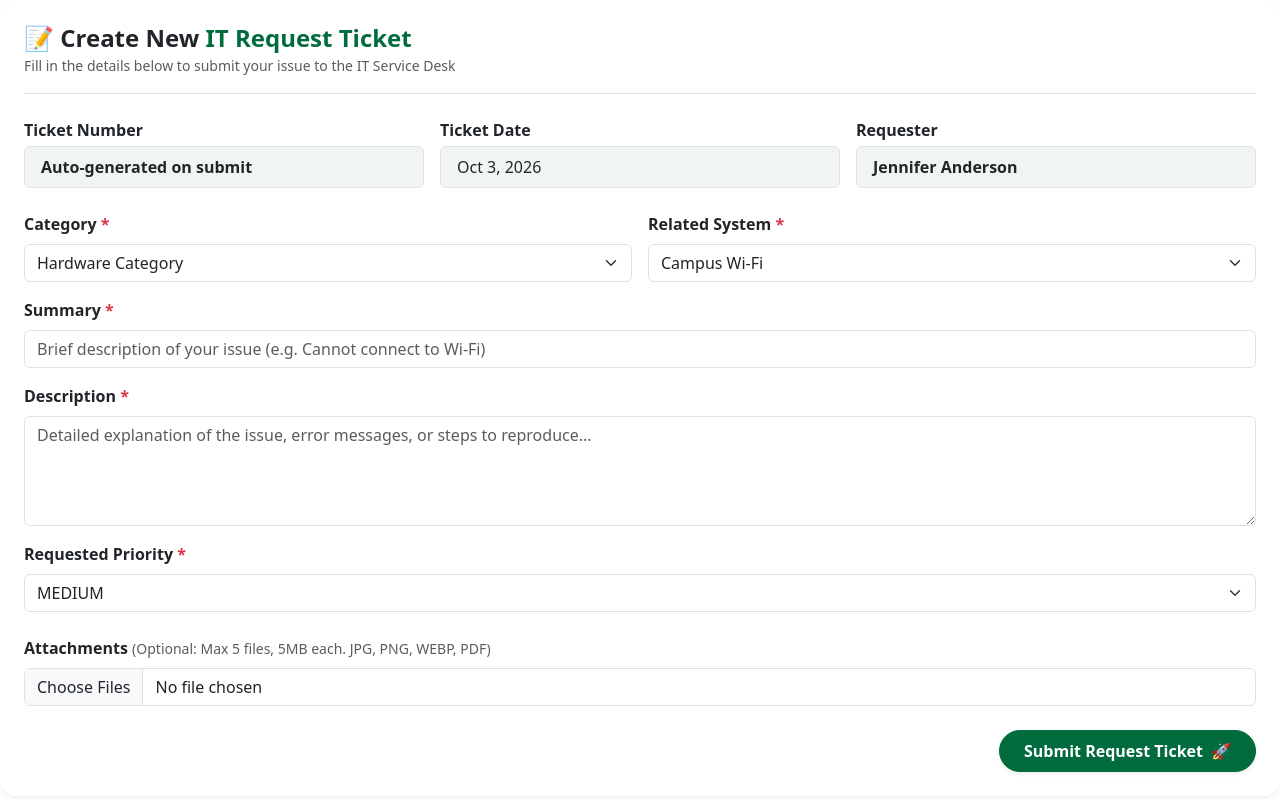
UI-02 & UI-03: Create Ticket Form (AC-01) › UI-20: API failure on create shows red error alert with message (AC-01)
The width and height of the screenshot is (1280, 800).
Type "Test Summary" into the field labelled "Summary *".
click(640, 349); type("Test Summary")  # box [24,330,1256,368]
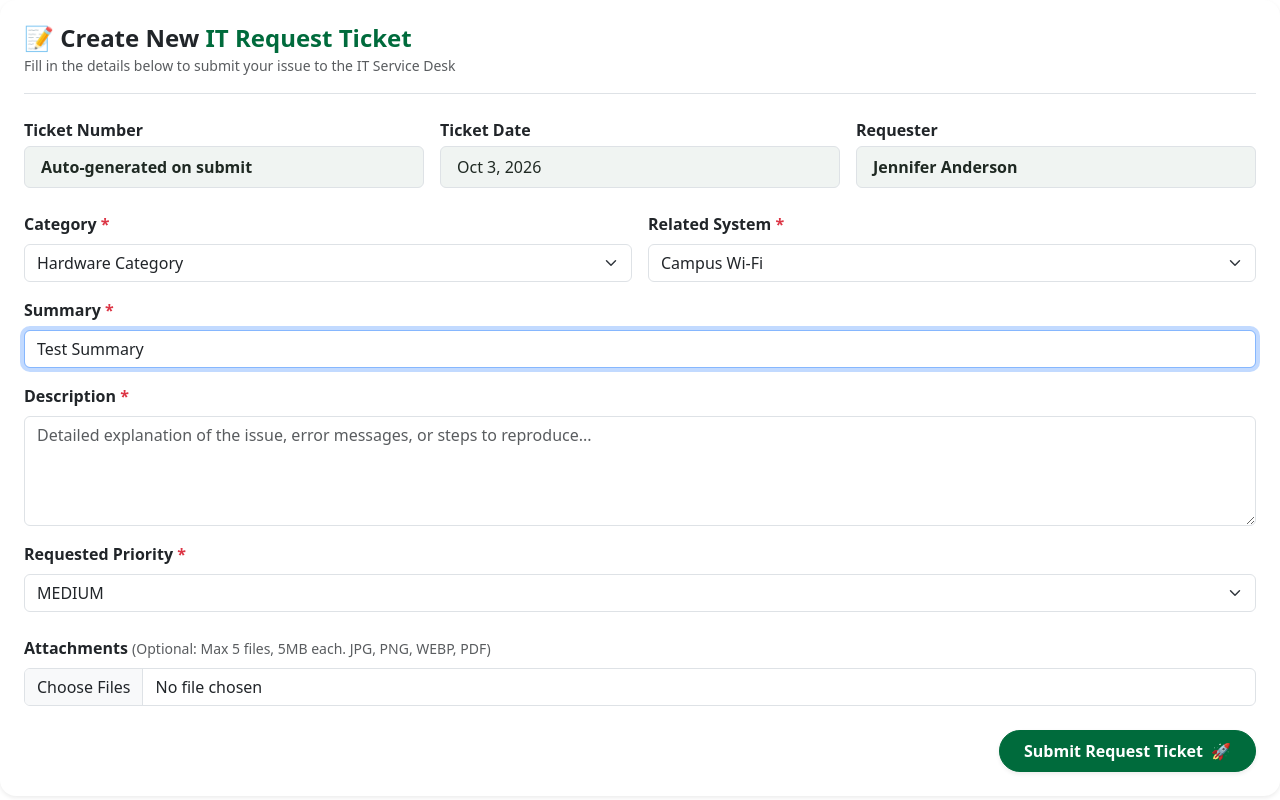
Type "Test Description" into the text box labelled "Description *".
click(640, 471); type("Test Description")  # box [24,416,1256,526]
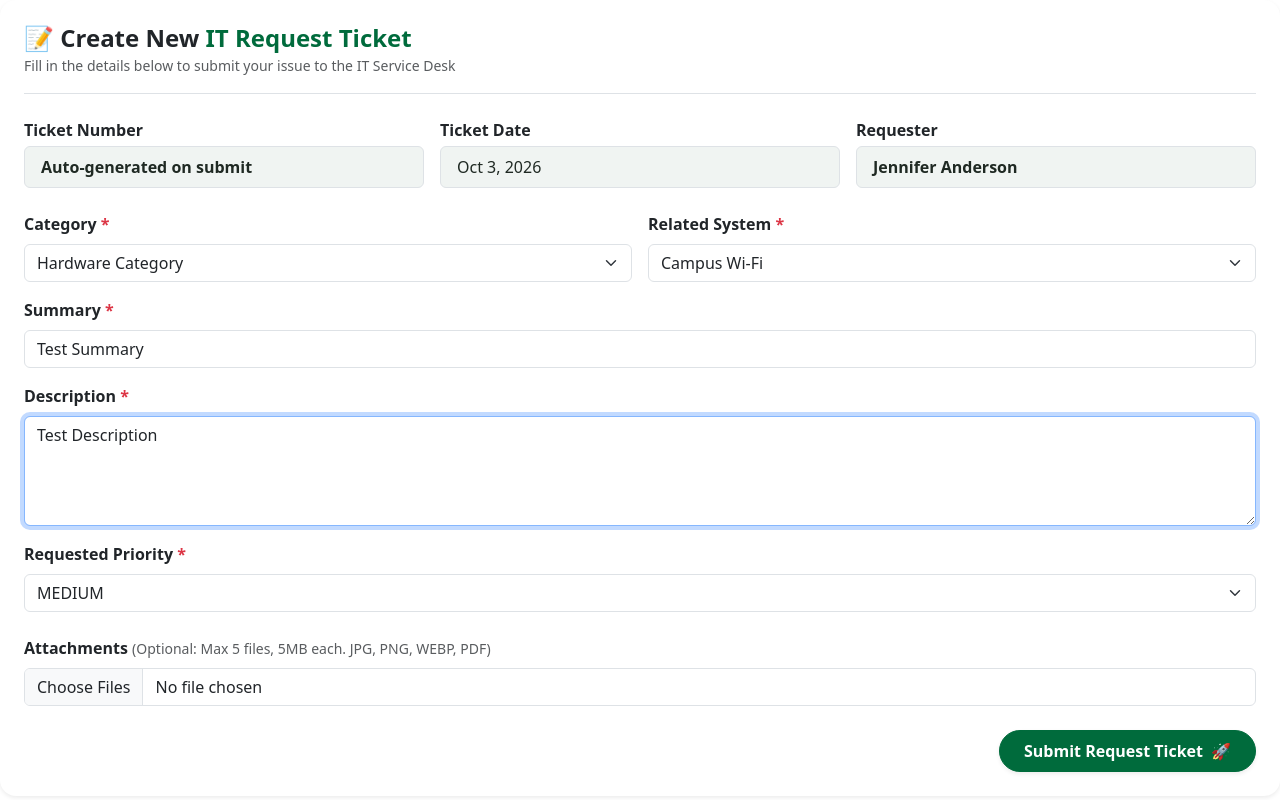
Click the button with test id "submit-ticket-btn".
click(1128, 751)  # box [999,730,1256,772]
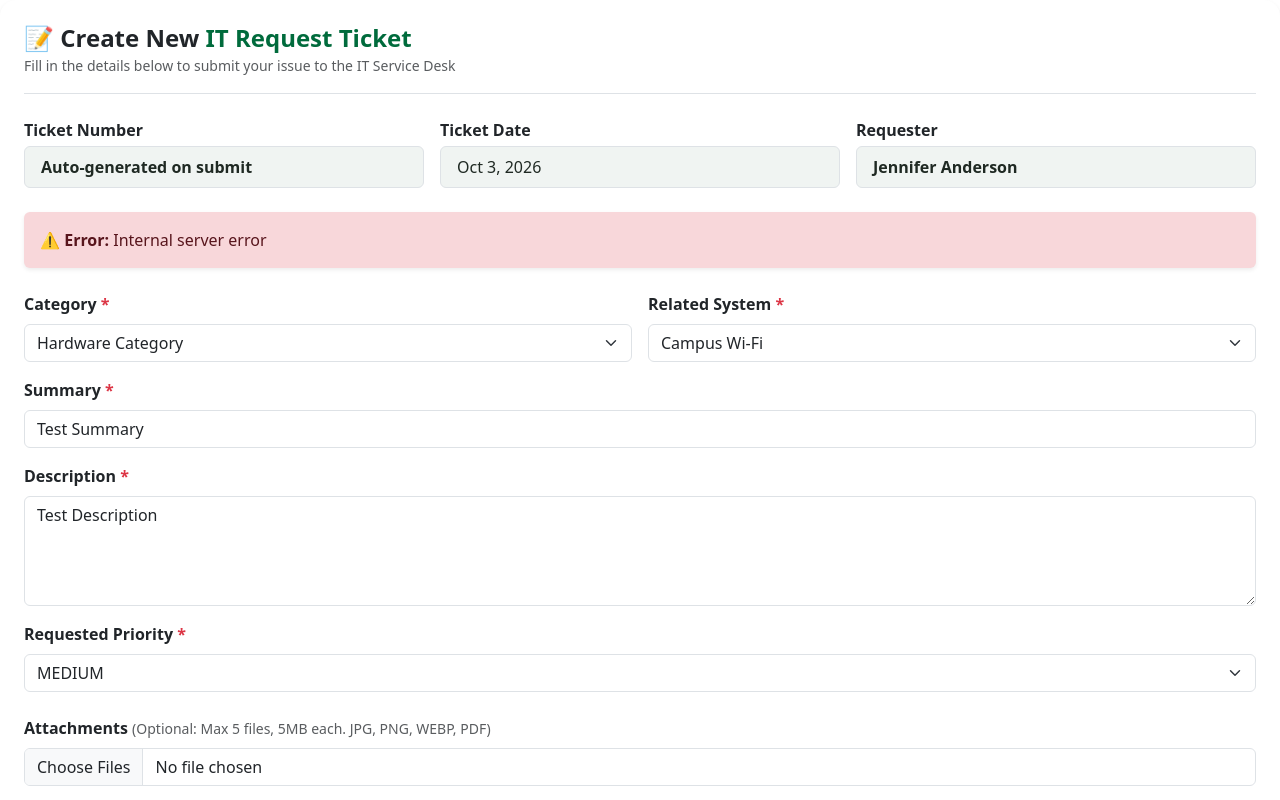
Result: the message "⚠️ Error: Internal server error" is shown at [24,212,1256,268]
Result: the message with test id "api-error" shows "Internal server error" at [113,229,267,251]
